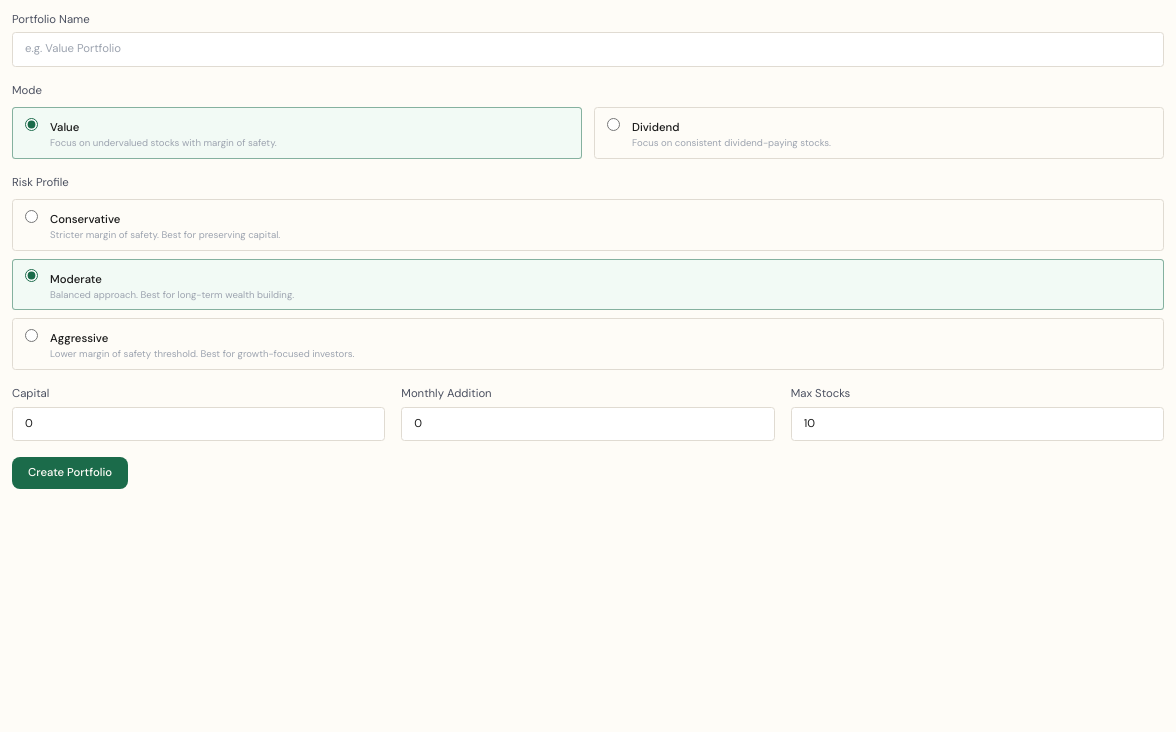
PortfolioForm › shows error on API failure
In the field labelled "Portfolio Name": (588, 49) [12, 32, 1164, 67], type "My Portfolio"
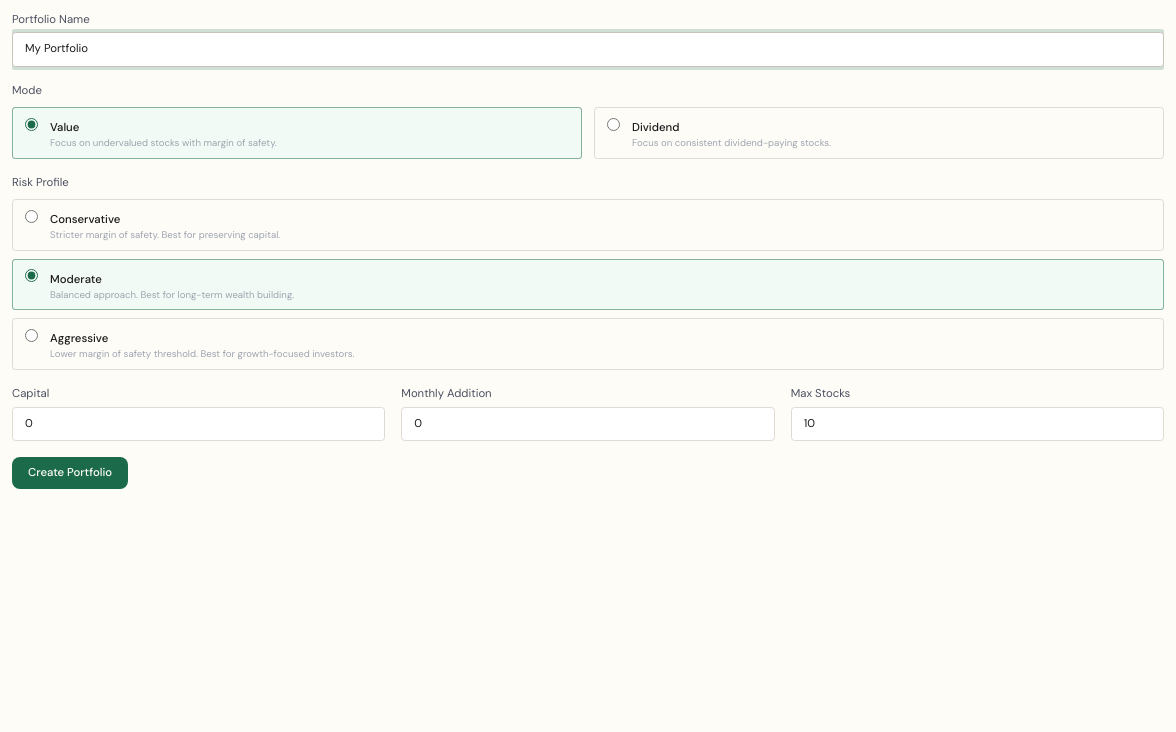
Click the button "Create Portfolio": (70, 473) [12, 457, 128, 489]
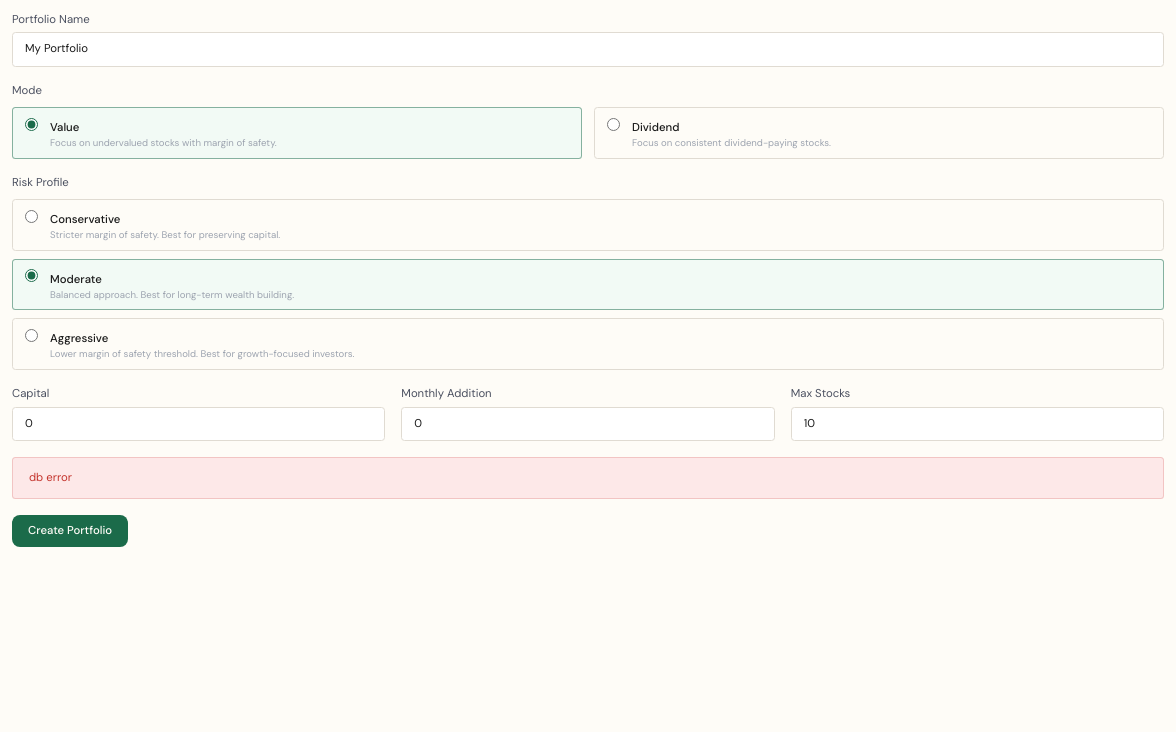
expect the message reads "db error": met, box [29, 470, 72, 485]
